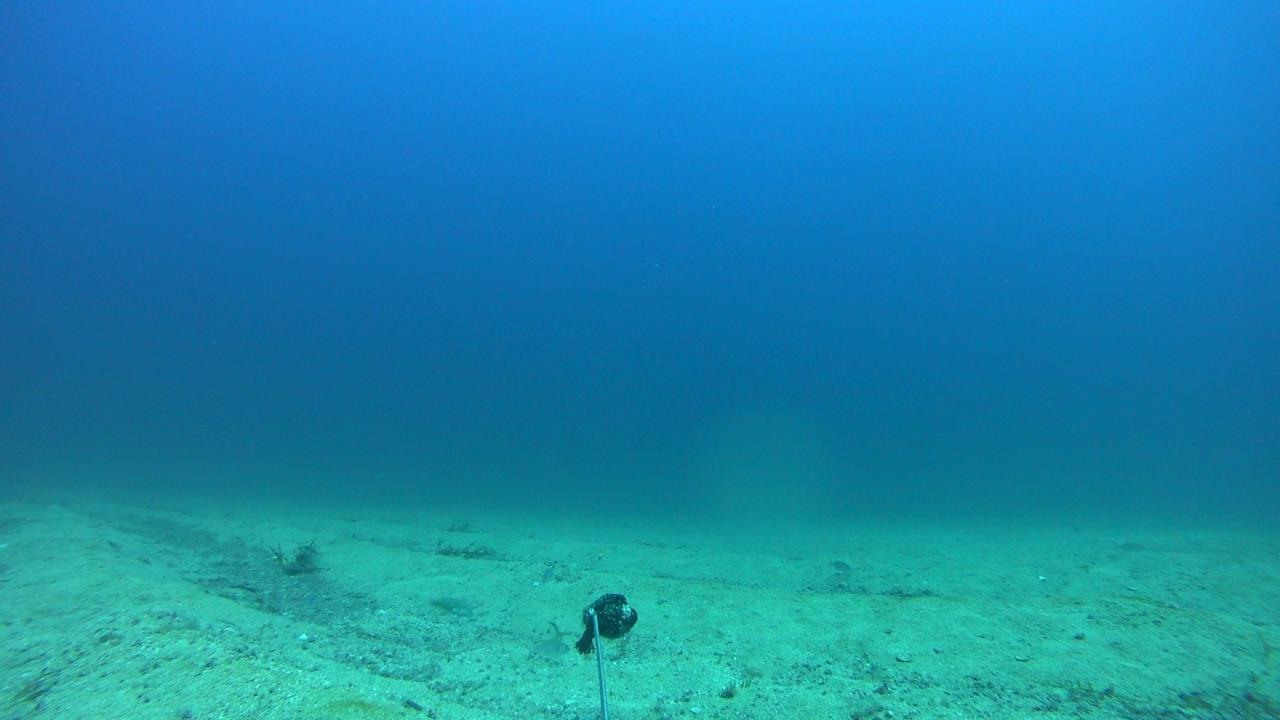pagellus: (522, 637, 571, 660)
raor: (423, 596, 477, 618)
